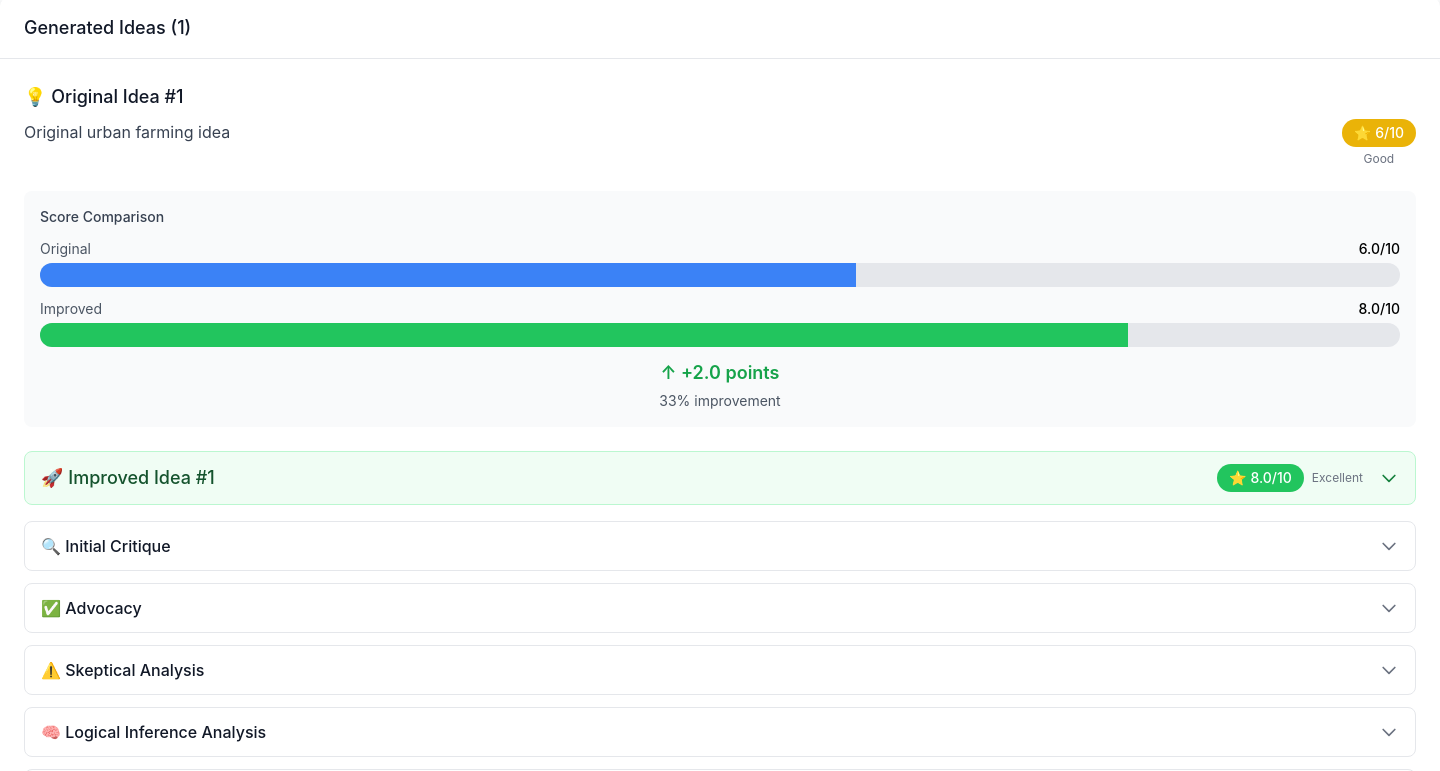
it: ResultsDisplay - Logical Inference Display › should display improvements when present
The width and height of the screenshot is (1440, 771).
// Expand the logical inference section
Step 1. Click the button with aria-label "toggle logical inference" → click(154, 732), box [25, 708, 1415, 756]
(page scrolled)
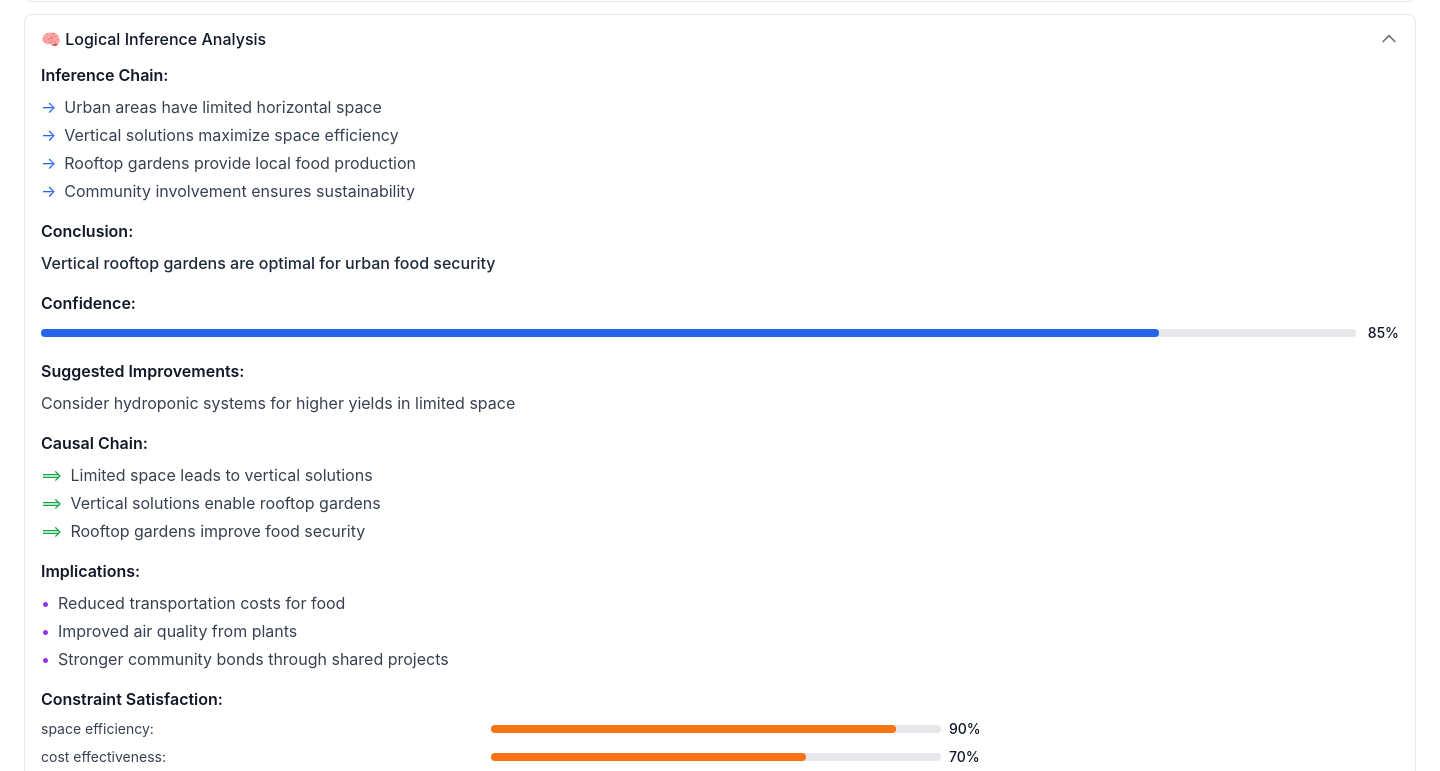
Now the text "Consider hydroponic systems for higher yields" is shown, box [41, 393, 515, 413]
